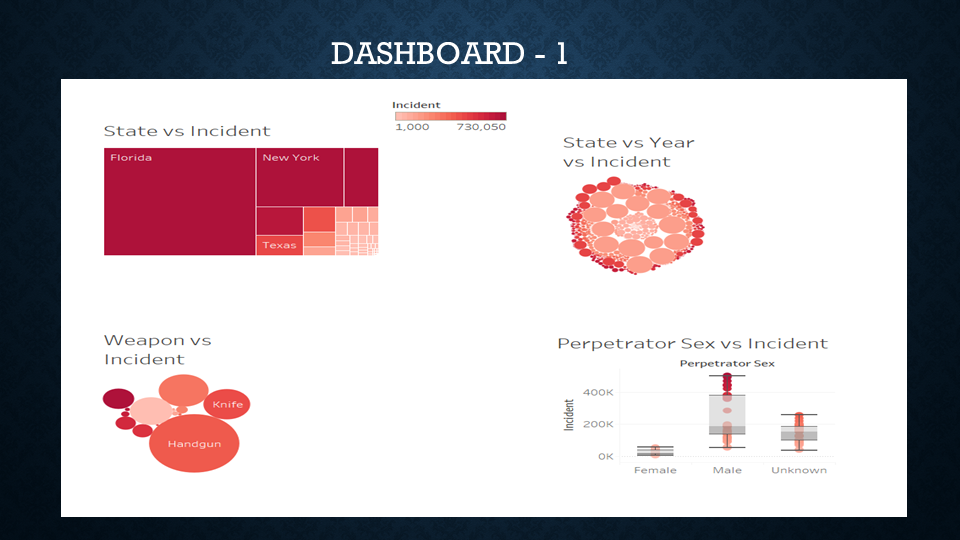

What the dashboard file says about the page in this screenshot:
{"tool":"tableau","page":{"name":"Dashboard 1","canvas":[1000,800],"ordinal":0},"visuals":[{"type":"worksheet","title":"State vs Incident","mark":"Automatic","param":"[federated.1hzmswl0txp79417dtnc20bq087f].[sum:Incident:qk]","box":[391,33,140,88]},{"type":"worksheet","title":"State vs Incident","mark":"Automatic","box":[46,71,333,266]},{"type":"worksheet","title":"State vs Year vs Incident","mark":"Circle","box":[589,92,333,266]},{"type":"worksheet","title":"Weapon vs Incident","mark":"Circle","box":[46,453,333,266]},{"type":"worksheet","title":"Perpetrator Sex vs Incident","mark":"Circle","rows":["Incident"],"cols":["Perpetrator Sex"],"box":[582,459,333,266]}]}

Visuals, with their boxes on the page's 1000x800 design canvas (x1, y1, x2, y2). These are canvas units, not pixel positions in the 960x540 screenshot, which may show the page scaled, cropped or inside an application window:
"State vs Incident" worksheet: pyautogui.locateOnScreen(391, 33, 531, 121)
"State vs Incident" worksheet: pyautogui.locateOnScreen(46, 71, 379, 337)
"State vs Year vs Incident" worksheet (Circle marks): pyautogui.locateOnScreen(589, 92, 922, 358)
"Weapon vs Incident" worksheet (Circle marks): pyautogui.locateOnScreen(46, 453, 379, 719)
"Perpetrator Sex vs Incident" worksheet (Circle marks): pyautogui.locateOnScreen(582, 459, 915, 725)
